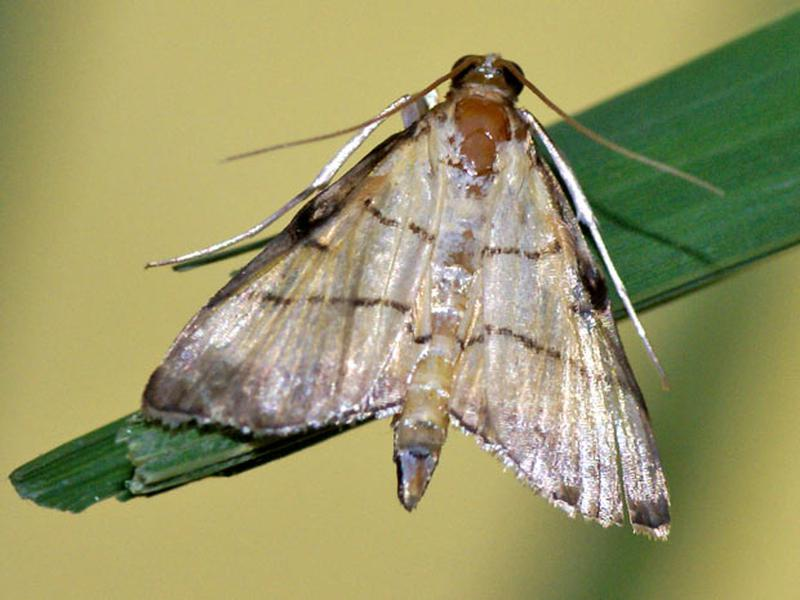Leaf_folder: (142, 54, 702, 542)
